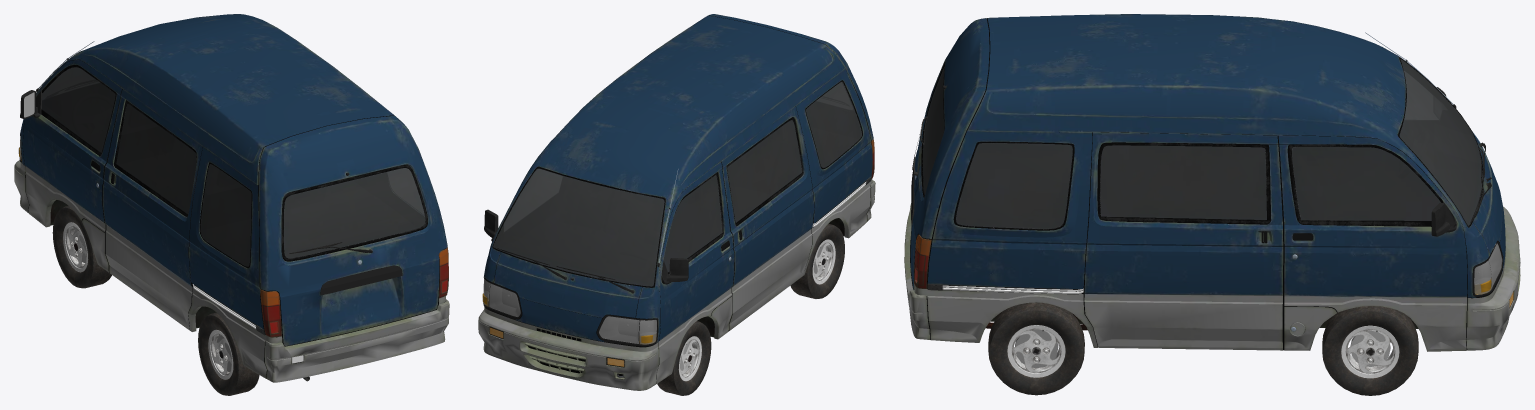
Rendered from hijet.glb.
3 views of the same model, side by side, from view 1: azimuth 30°, elevation 25°; view 2: azimuth 150°, elevation 25°; view 3: azimuth 270°, elevation 25° (orthographic). The views are drawn at different scales.
Parts seen in each view (by area): view 1: Body_Body_0, Windows_Windows_0, BlackStuff_Body_0, Trims.001_Trims_0, Wheel_lp.001_Wheel_0_1, Wheel_lp.002_Wheel_0_3, Lights.006_Lights_0, Trims_Trims_0, Lights.007_Lights_0, Body.007_Body_0; view 2: Body_Body_0, Windows_Windows_0, BlackStuff_Body_0, Trims.001_Trims_0, Wheel_lp.001_Wheel_0_1, Wheel_lp.002_Wheel_0_3, Lights.008_Lights_0, Lights.004_Lights_0, Trims.003_Trims_0, Lights.003_Lights_0, Trims.004_Trims_0, Body.003_Body_0; view 3: Body_Body_0, Windows_Windows_0, BlackStuff_Body_0, Wheel_lp.004_Wheel_0_0, Wheel_lp.003_Wheel_0_2, Trims.001_Trims_0, Lights.008_Lights_0, Lights.004_Lights_0, Trims.003_Trims_0, Lights.006_Lights_0, Suspension_suspension_0.
Part boxes in pixels (box(x1,y1,x2,y2)): Body_Body_0: box(14, 14, 449, 382); Windows_Windows_0: box(41, 67, 425, 266); BlackStuff_Body_0: box(20, 59, 446, 378); Trims.001_Trims_0: box(41, 51, 427, 268); Wheel_lp.001_Wheel_0_1: box(198, 312, 259, 395); Wheel_lp.002_Wheel_0_3: box(52, 205, 111, 288); Lights.006_Lights_0: box(260, 247, 448, 337); Trims_Trims_0: box(36, 58, 402, 295); Lights.007_Lights_0: box(261, 249, 447, 336); Body.007_Body_0: box(50, 200, 216, 328); Body_Body_0: box(478, 14, 875, 390); Windows_Windows_0: box(493, 81, 861, 286); BlackStuff_Body_0: box(484, 15, 871, 383); Trims.001_Trims_0: box(492, 80, 862, 287); Wheel_lp.001_Wheel_0_1: box(790, 224, 844, 298); Wheel_lp.002_Wheel_0_3: box(657, 321, 711, 395); Lights.008_Lights_0: box(482, 279, 656, 344); Lights.004_Lights_0: box(482, 279, 656, 344); Trims.003_Trims_0: box(484, 209, 688, 284); Lights.003_Lights_0: box(483, 277, 658, 346); Trims.004_Trims_0: box(497, 248, 634, 293); Body.003_Body_0: box(528, 328, 585, 373); Body_Body_0: box(904, 14, 1520, 351); Windows_Windows_0: box(923, 59, 1482, 228); BlackStuff_Body_0: box(910, 18, 1503, 350); Wheel_lp.004_Wheel_0_0: box(988, 302, 1084, 395); Wheel_lp.003_Wheel_0_2: box(1322, 306, 1418, 395); Trims.001_Trims_0: box(921, 57, 1483, 230); Lights.008_Lights_0: box(1474, 243, 1501, 294); Lights.004_Lights_0: box(1474, 244, 1501, 294); Trims.003_Trims_0: box(1431, 87, 1456, 236); Lights.006_Lights_0: box(914, 234, 931, 288); Suspension_suspension_0: box(986, 313, 1087, 368).
Size of the model in its own units: 1.64 by 1.85 by 3.39.
Materials: 6 (6 with a texture image).
